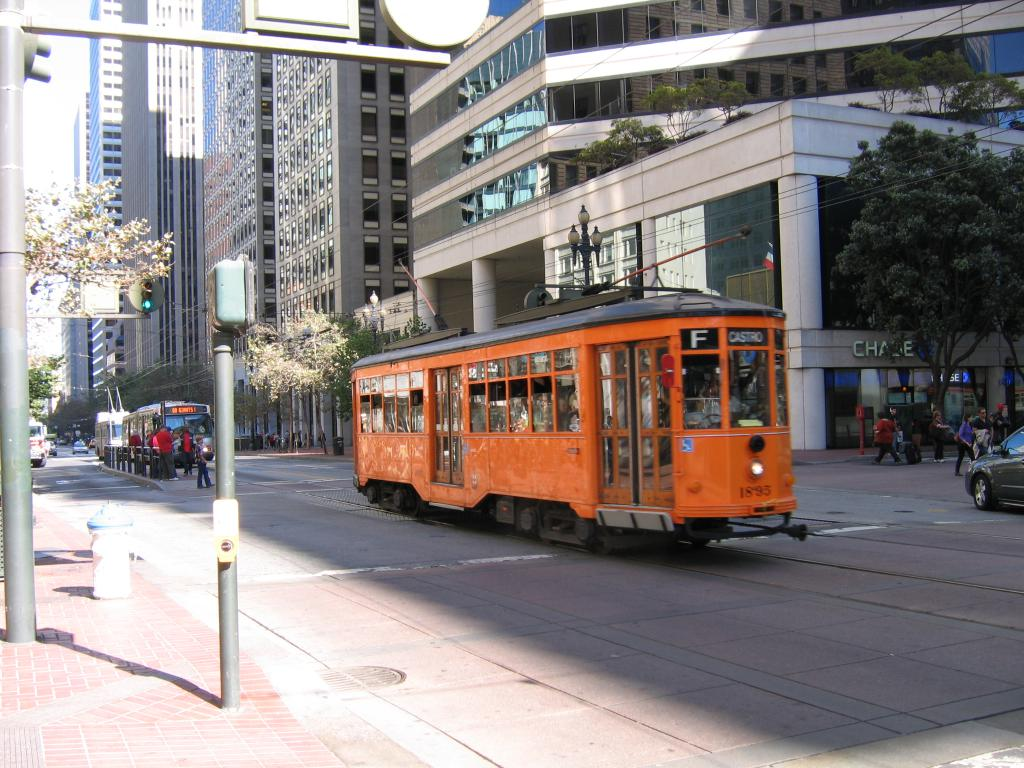Bus: (125, 399, 211, 455)
